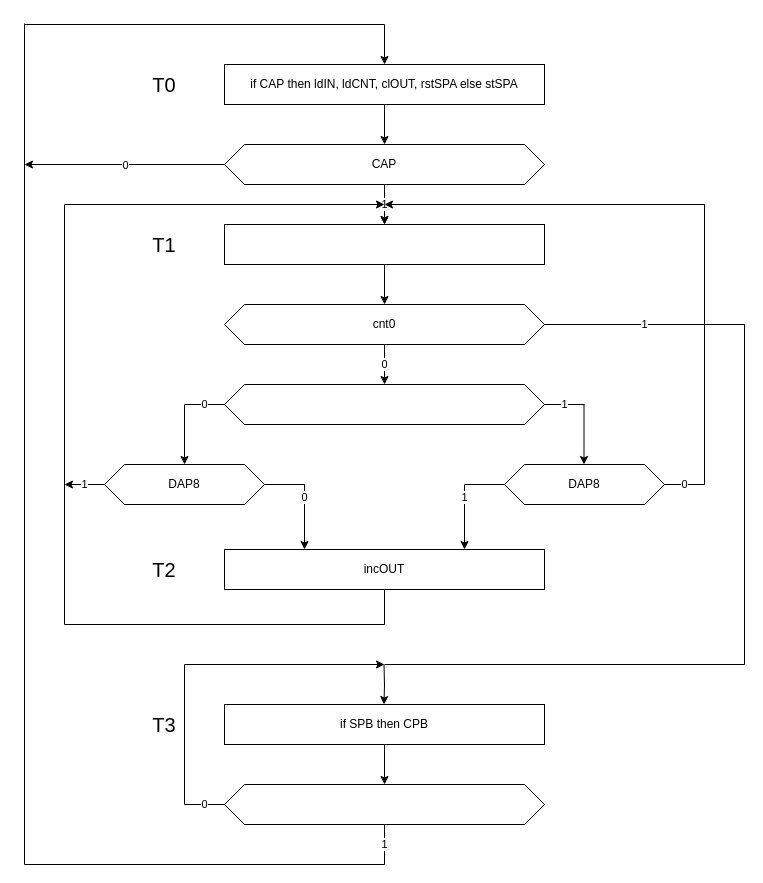
The diagram is 763 pixels wide and 883 high, and some of its shapes have lost their labels. Here are the shapes that lost their labels. From the top down, the centre of each, then its label:
(384,244): srREG, decCNT
(384,404): regEq
(384,804): SPB
